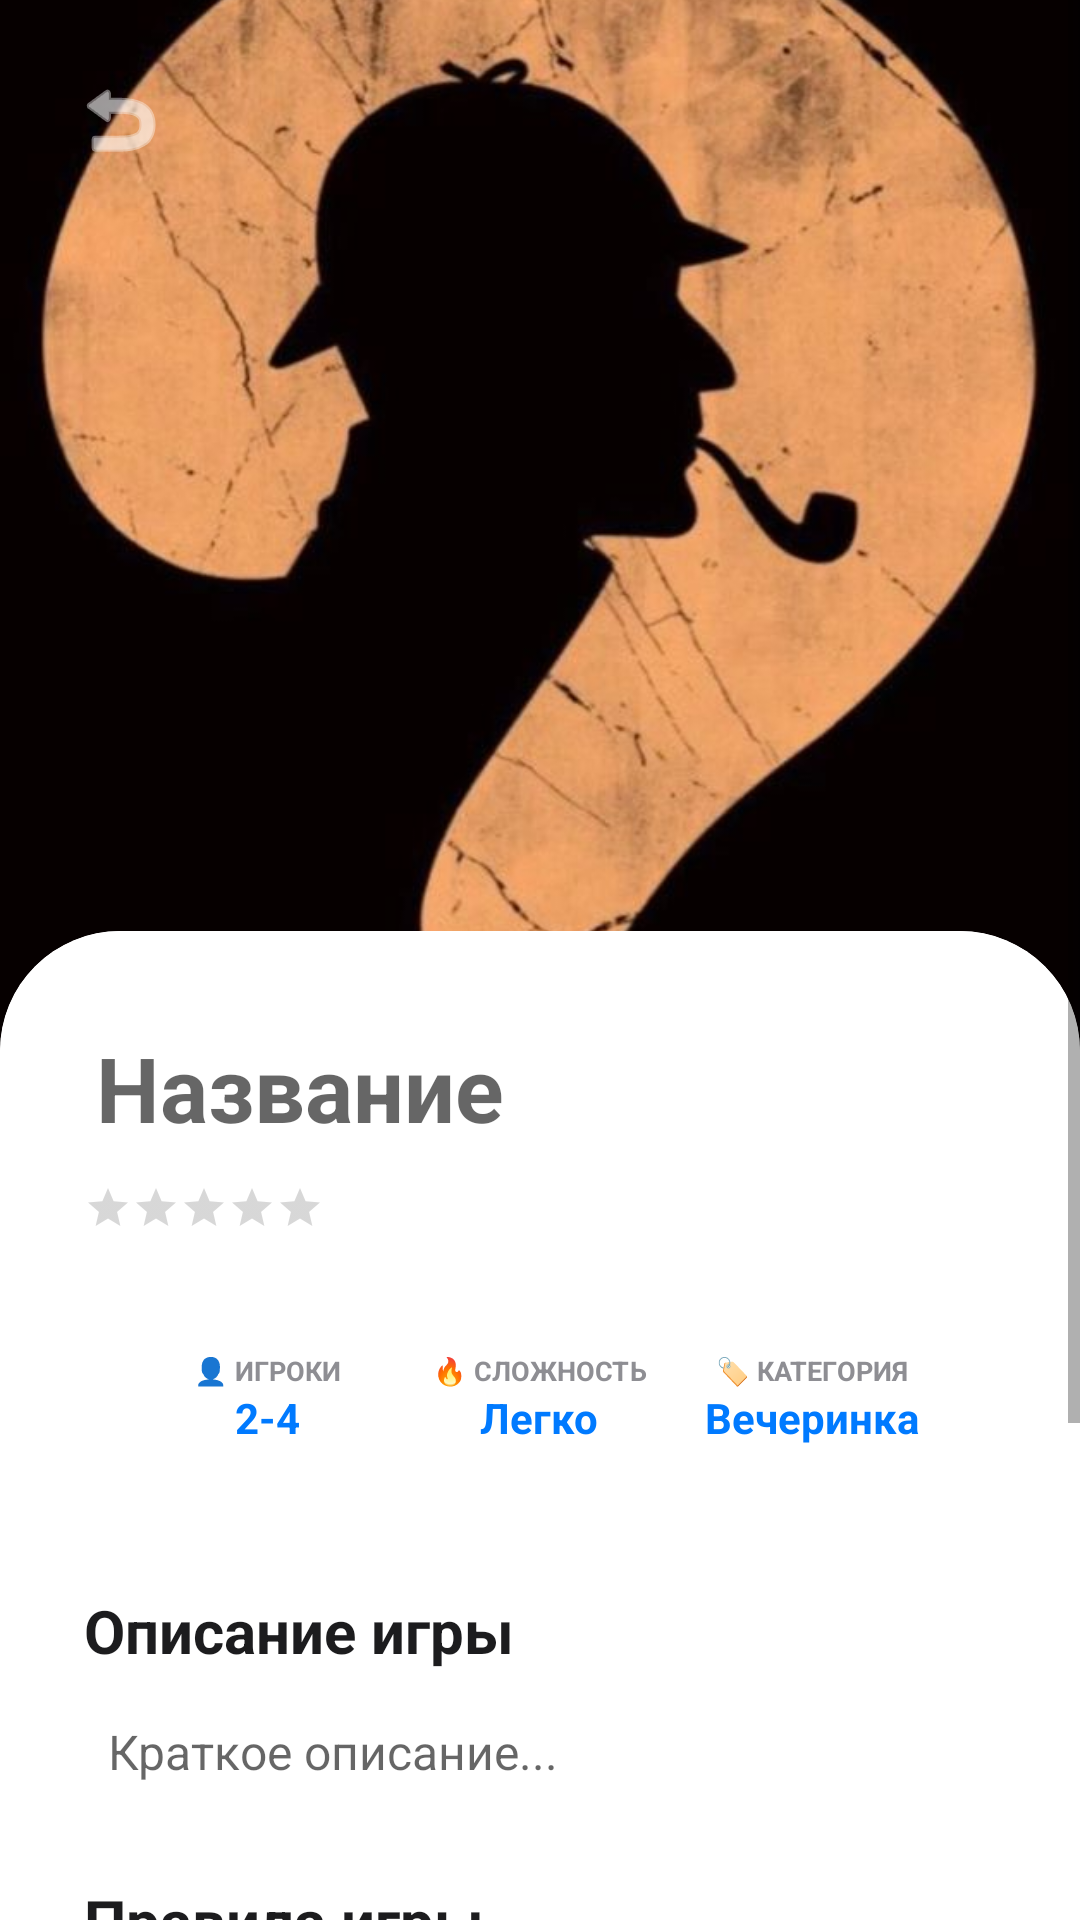

Point at icon controls on the screen. Image size 1080px x 1920px, points as (x=x, y=y).
revert: (x=120, y=120)
